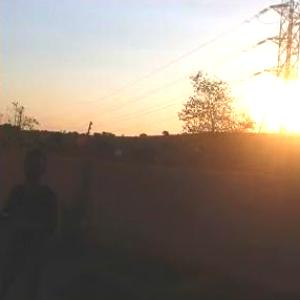follow: (0, 146, 68, 299)
